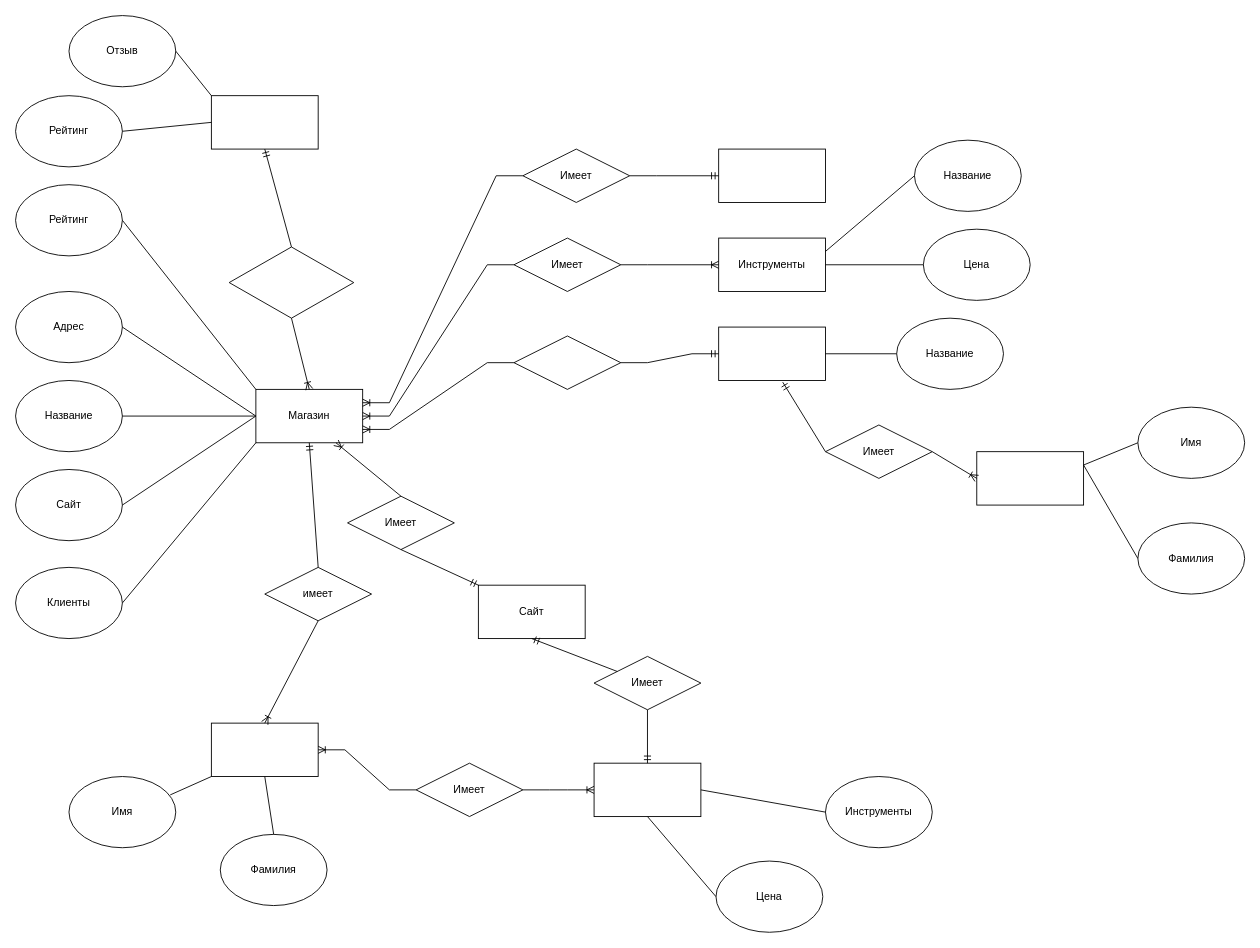
Image size: 1260x948. Some labels were removed from this diagram. The centre of each missing label's shape, as x and y in pixels:
"Каталог инструментов" goes at point 647,789.
"Поставщик" goes at point 1030,478.
"Предоставляет возможность" goes at point 291,282.
"Принадлежит" goes at point 567,362.
"Просмотрено" goes at point 264,122.
"Склад" goes at point 771,175.
"Сотрудники" goes at point 264,749.
"Фабрика" goes at point 771,353.
